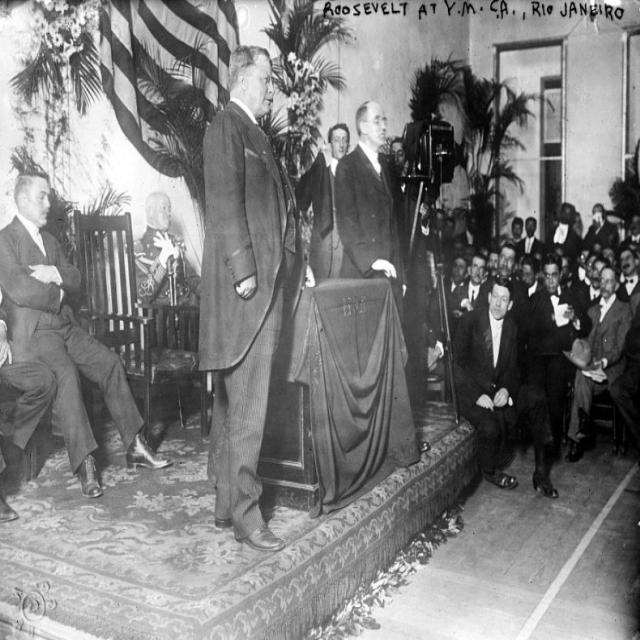body: (0, 167, 175, 504), (193, 41, 300, 554), (442, 202, 638, 302), (518, 250, 593, 504), (332, 96, 411, 326), (451, 276, 520, 492), (562, 265, 634, 464), (0, 290, 58, 520), (292, 120, 352, 279), (130, 187, 203, 308), (387, 135, 428, 263), (475, 241, 530, 312), (420, 203, 442, 375), (452, 251, 494, 320)
